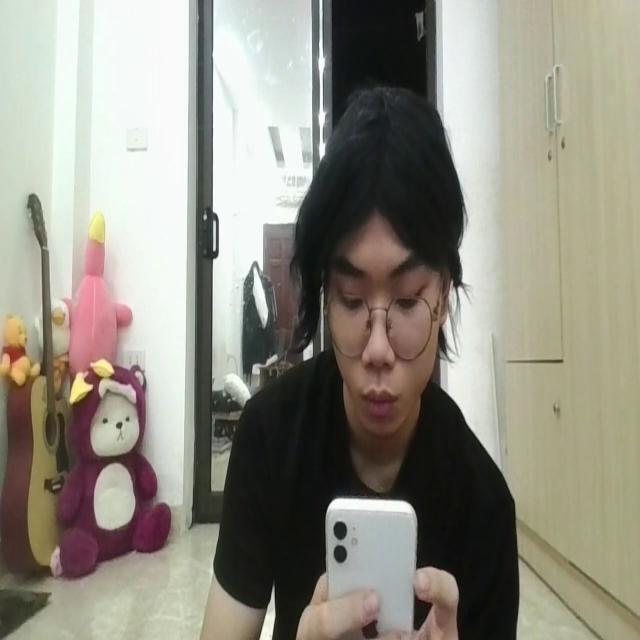phone: (325, 483, 420, 640)
student: (204, 80, 516, 640)
